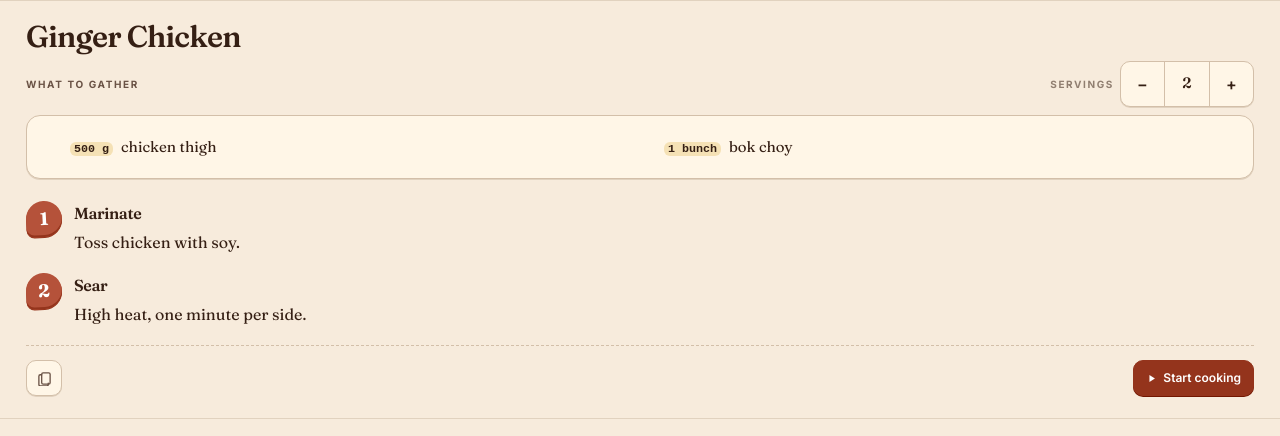
ServingsStepper inside RecipeLetter › clicking increment updates the displayed count
Click the button named "Increase servings". click: {"x": 1231, "y": 84}
box: x1=1209 y1=62 x2=1253 y2=106
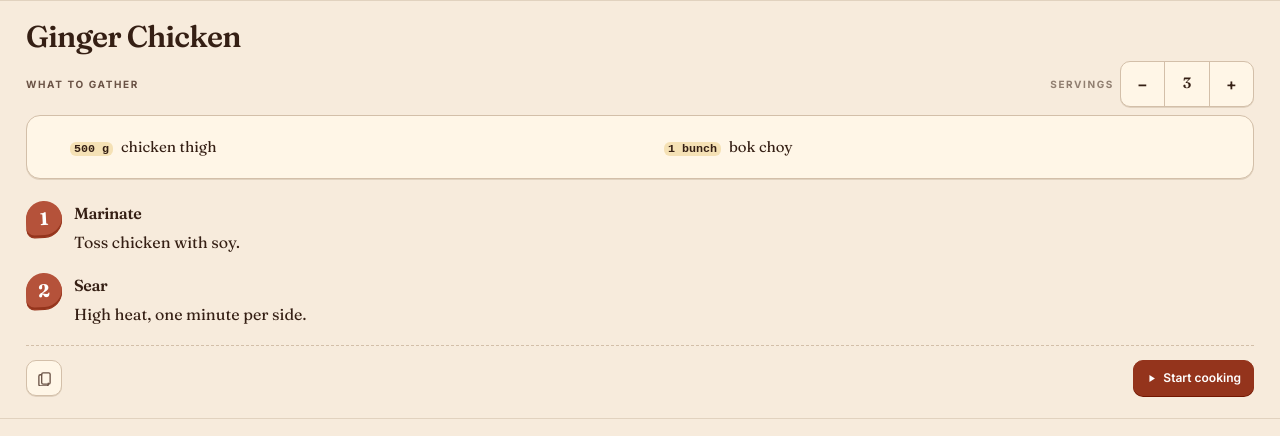
Expected: the text "3" is shown, x1=1183 y1=73 x2=1191 y2=92
